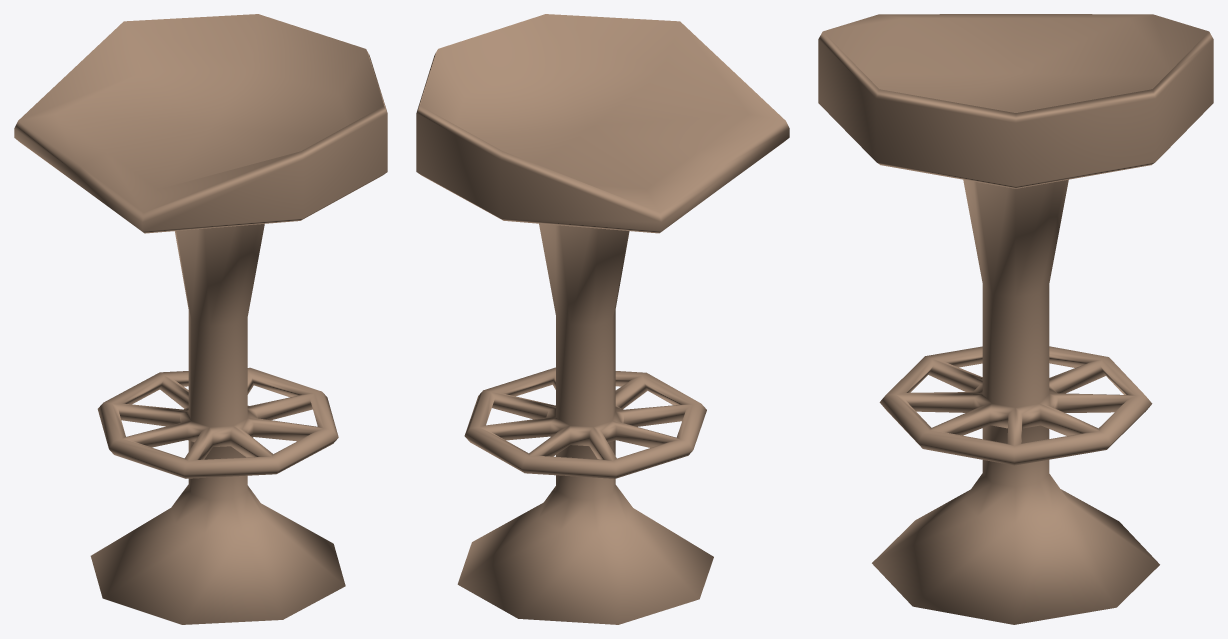
The model's file is MOD_BAR BarChair.fbx.
The picture shows the model from 3 angles, left to right: view 1: azimuth 30°, elevation 25°; view 2: azimuth 150°, elevation 25°; view 3: azimuth 270°, elevation 25°; orthographic projection. The views are drawn at different scales.
Visible parts, largest first — view 1: Chair; view 2: Chair; view 3: Chair.
Part boxes in pixels (bbox=[...]): Chair: bbox=[14, 14, 387, 624]; Chair: bbox=[416, 14, 789, 624]; Chair: bbox=[818, 14, 1213, 624].
Bounding box in the file's own units: 61.57 × 98.18 × 66.43.
